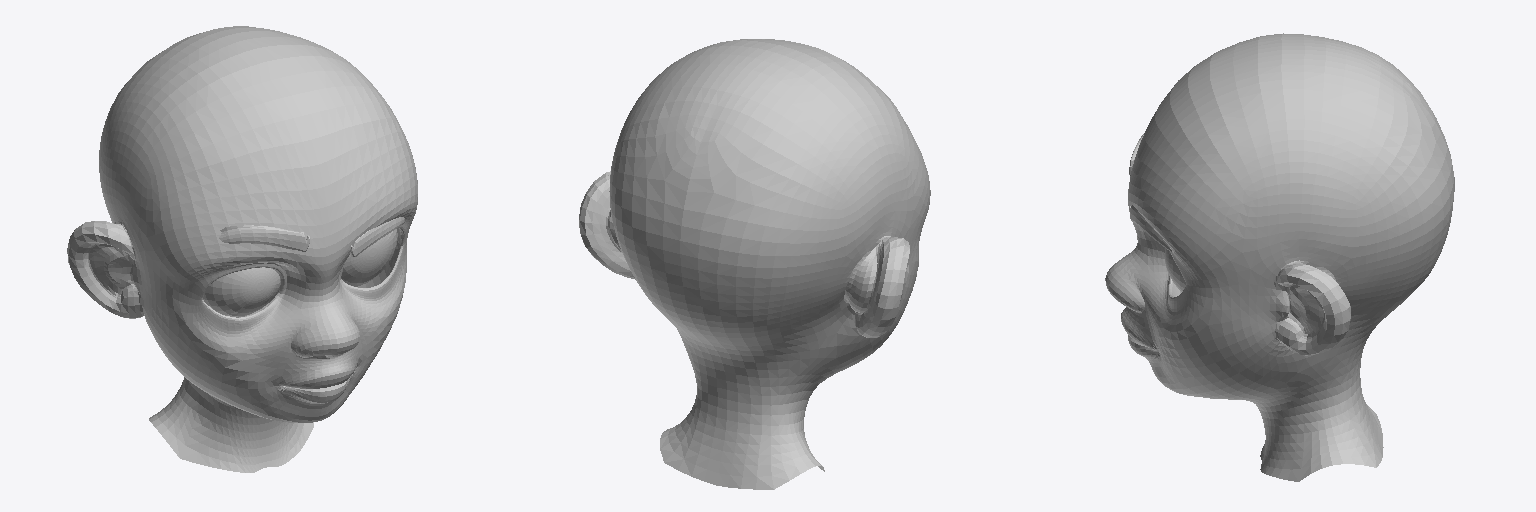
File: warrior_chibi_head.OBJ
3 views of the same model, side by side, from view 1: azimuth 30°, elevation 25°; view 2: azimuth 150°, elevation 25°; view 3: azimuth 270°, elevation 25° (orthographic).
Parts seen in each view (by area): view 1: rain_head_rain_head_Mesh1; view 2: rain_head_rain_head_Mesh1; view 3: rain_head_rain_head_Mesh1.
Boxes of the visible parts, x1=… form: rain_head_rain_head_Mesh1: x1=67, y1=26, x2=417, y2=472; rain_head_rain_head_Mesh1: x1=579, y1=39, x2=930, y2=489; rain_head_rain_head_Mesh1: x1=1105, y1=33, x2=1454, y2=481.
Bounding box in the file's own units: 4.13 × 5.07 × 3.88.